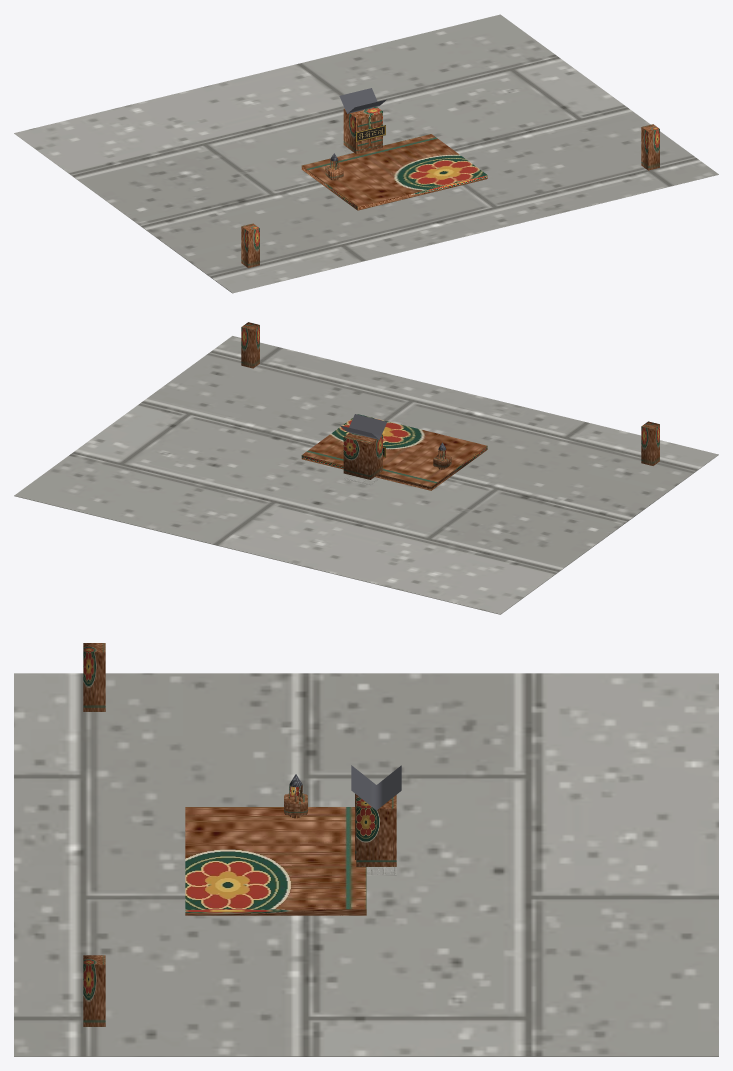
3 renders of one model, top to bottom at view 1: azimuth 30°, elevation 25°; view 2: azimuth 150°, elevation 25°; view 3: azimuth 270°, elevation 25°, orthographic. The views are drawn at different scales.
Parts seen in each view (by area): view 1: 11710_01_05508_029_01_L2__base, 11710_01_05508_029_02_L2__body, 11710_01_05508_029_06_L2__green, 11710_01_05508_029_03_L2__roof, 11710_01_05508_029_05_L2__openings; view 2: 11710_01_05508_029_01_L2__base, 11710_01_05508_029_02_L2__body, 11710_01_05508_029_06_L2__green, 11710_01_05508_029_03_L2__roof; view 3: 11710_01_05508_029_01_L2__base, 11710_01_05508_029_02_L2__body, 11710_01_05508_029_06_L2__green, 11710_01_05508_029_03_L2__roof.
Part boxes in pixels (left/top/right/bottom): 11710_01_05508_029_01_L2__base: left=14, top=14, right=718, bottom=293; 11710_01_05508_029_02_L2__body: left=301, top=107, right=487, bottom=210; 11710_01_05508_029_06_L2__green: left=241, top=124, right=659, bottom=267; 11710_01_05508_029_03_L2__roof: left=330, top=88, right=386, bottom=161; 11710_01_05508_029_05_L2__openings: left=357, top=113, right=382, bottom=150; 11710_01_05508_029_01_L2__base: left=14, top=336, right=718, bottom=614; 11710_01_05508_029_02_L2__body: left=301, top=414, right=487, bottom=490; 11710_01_05508_029_06_L2__green: left=241, top=322, right=659, bottom=465; 11710_01_05508_029_03_L2__roof: left=340, top=414, right=446, bottom=450; 11710_01_05508_029_01_L2__base: left=14, top=673, right=718, bottom=1056; 11710_01_05508_029_02_L2__body: left=185, top=785, right=396, bottom=915; 11710_01_05508_029_06_L2__green: left=83, top=643, right=105, bottom=1026; 11710_01_05508_029_03_L2__roof: left=289, top=765, right=401, bottom=810.
Size of the model in its own units: 90 by 9.6 by 70.
Materials: 5 (5 with a texture image).
